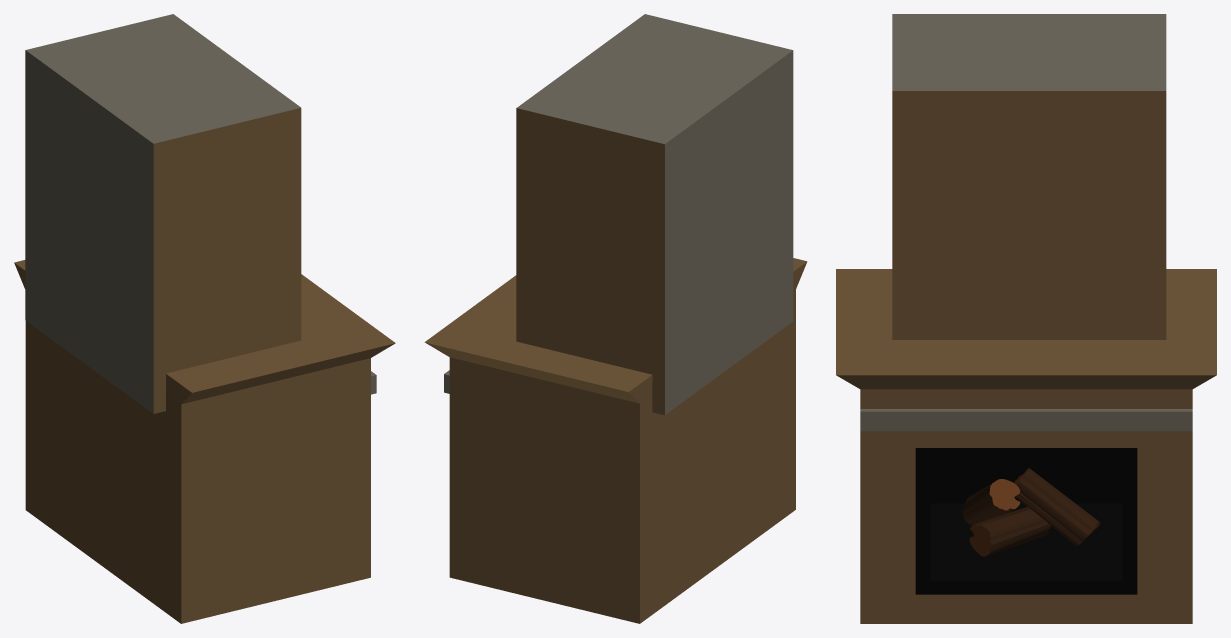
The model's file is Fireplace.fbx.
3 views of the same model, side by side, from view 1: azimuth 30°, elevation 25°; view 2: azimuth 150°, elevation 25°; view 3: azimuth 270°, elevation 25° (orthographic). The views are drawn at different scales.
Parts seen in each view (by area): view 1: Cube; view 2: Cube; view 3: Cube.
Boxes of the visible parts, <box> form: Cube: <box>14,14,395,623</box>; Cube: <box>424,14,807,623</box>; Cube: <box>836,14,1216,623</box>.
Bounding box in the file's own units: 145 × 304 × 208.
